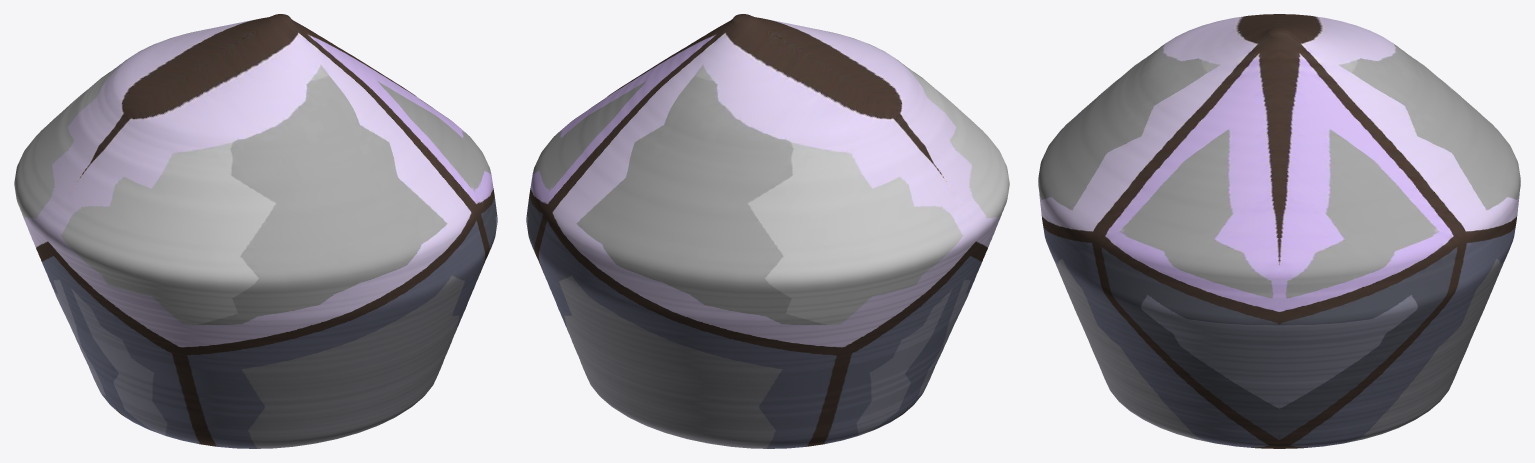
The model's file is faceted_boulder.glb.
3 renders of one model, left to right at view 1: azimuth 30°, elevation 25°; view 2: azimuth 150°, elevation 25°; view 3: azimuth 270°, elevation 25°, orthographic.
Parts seen in each view (by area): view 1: faceted_boulder; view 2: faceted_boulder; view 3: faceted_boulder.
Part boxes in pixels (x1=…): faceted_boulder: x1=14, y1=14, x2=497, y2=448; faceted_boulder: x1=526, y1=14, x2=1009, y2=448; faceted_boulder: x1=1038, y1=14, x2=1520, y2=448.
Size of the model in its own units: 0.9974 by 0.8886 by 0.9851.
Materials: 1 (1 with a texture image).
